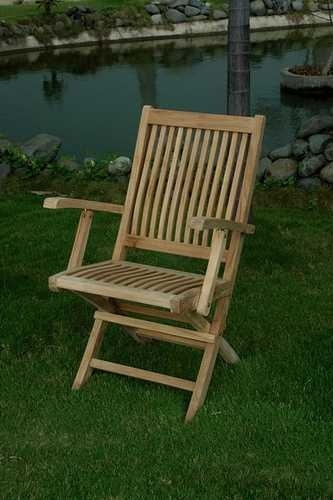obstacle: (43, 106, 264, 420)
